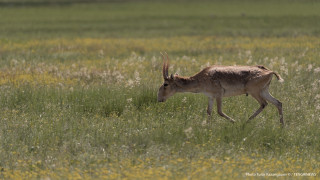saiga: (157, 51, 285, 129)
